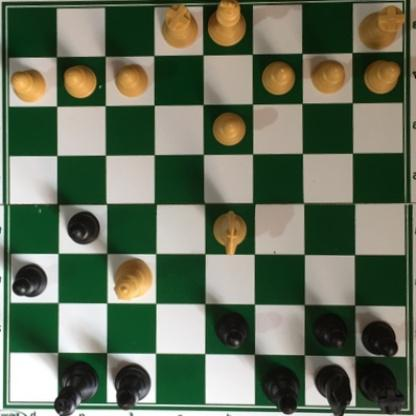black-bishop: (113, 362, 152, 413), (261, 367, 300, 415)
black-king: (51, 360, 98, 415)
black-knight: (315, 362, 354, 415)
black-pawn: (361, 320, 398, 360), (10, 263, 48, 299), (213, 311, 248, 350), (311, 312, 346, 350), (66, 211, 101, 246)
black-rook: (356, 362, 403, 415)
white-king: (204, 0, 247, 48)
white-knight: (212, 207, 247, 258)
white-pawn: (8, 69, 48, 107), (61, 63, 98, 102), (211, 110, 247, 149), (360, 59, 400, 94), (113, 64, 150, 100), (309, 59, 347, 94), (261, 61, 296, 96)
white-queen: (110, 260, 155, 303)
white-rook: (354, 5, 406, 54), (158, 2, 198, 48)
